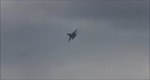maybay_muctieu: (66, 29, 78, 42)
